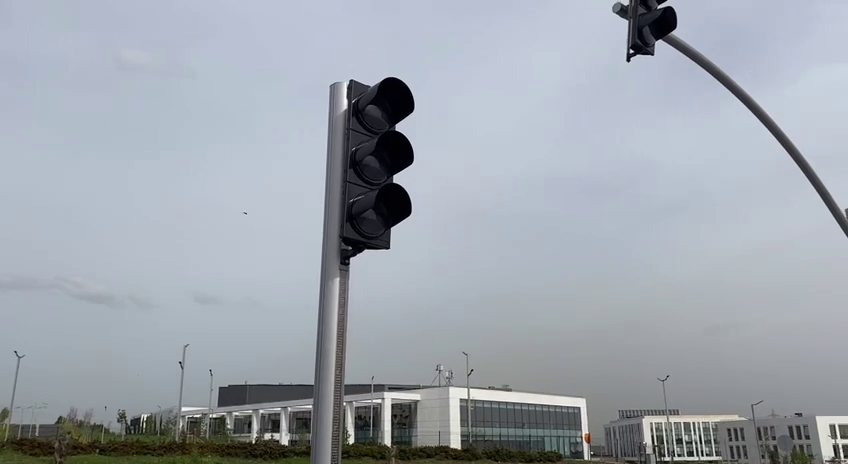trafficLight: (328, 68, 419, 257), (620, 1, 680, 64)
